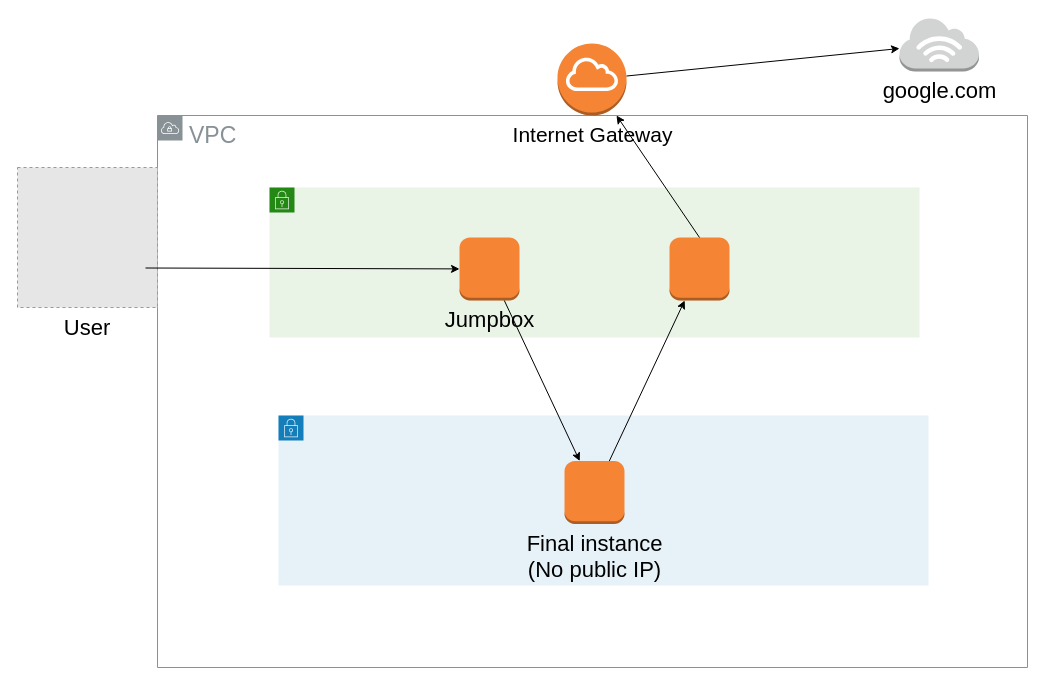
Some shapes in this 1045 by 685 pixel diagram are drawn without their labels. Grey dashed boxes stand in for pictures. Each missing label, with the box of its shape:
NAT instance: (668, 236, 730, 300)
Private subnet Ping "google.com": (278, 414, 928, 586)
Public subnet: (268, 186, 920, 338)
